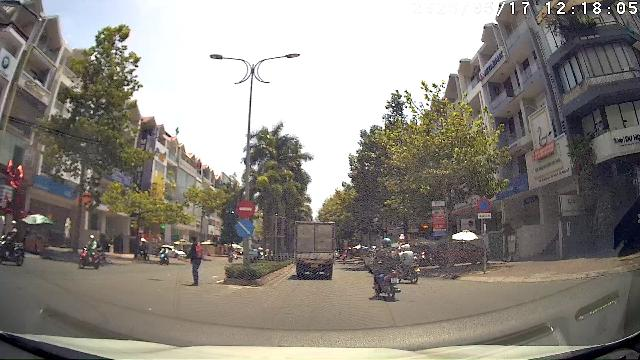102-cam-di-nguoc-chieu: (236, 200, 254, 219)
131a-cam-do-xe: (477, 196, 491, 212)
302a-huong-phai-di-vong-chuong-ngai-vat-1: (236, 219, 254, 237)
